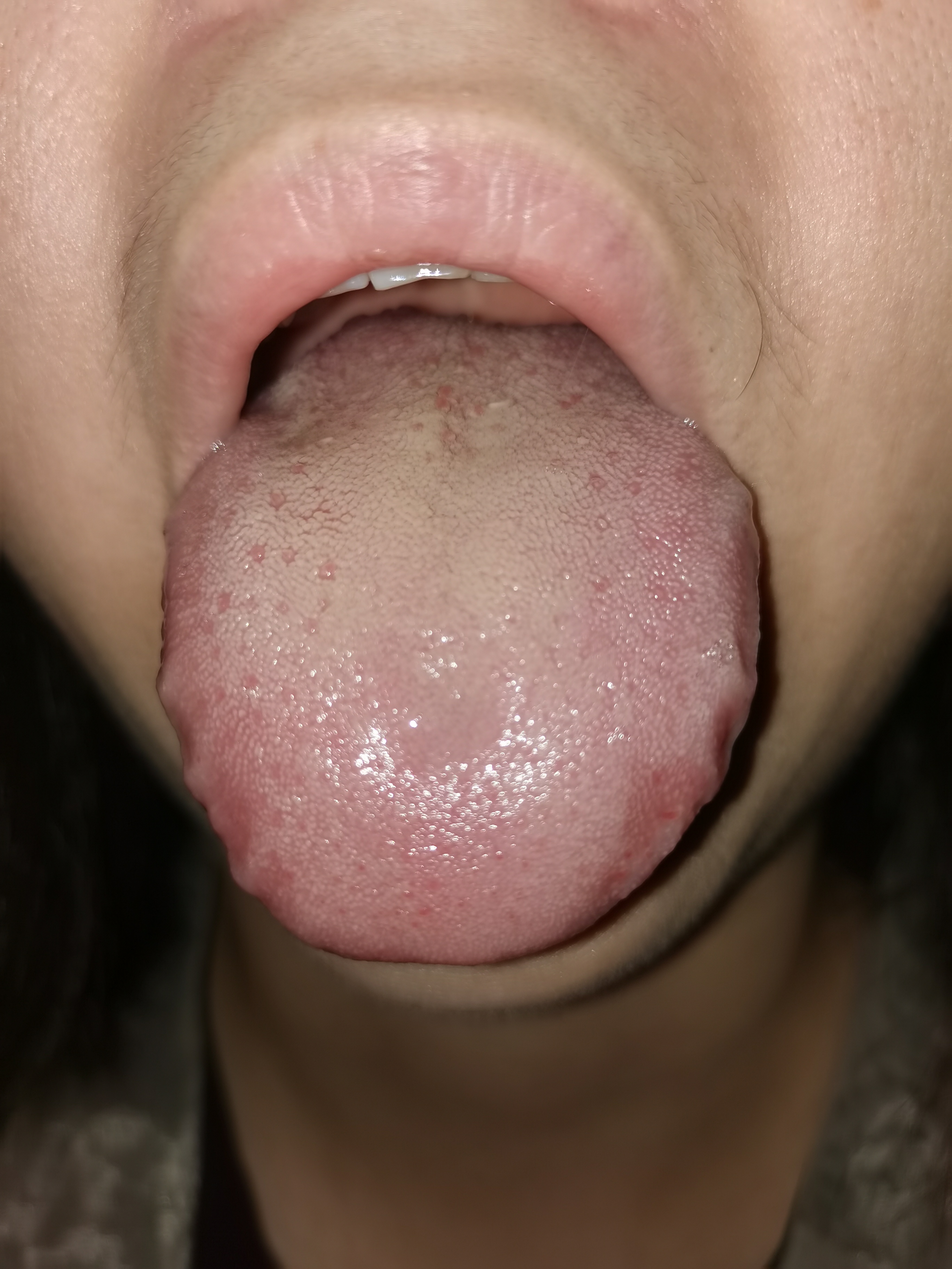baitaishe: (157, 312, 760, 961)
chihenshe: (159, 693, 286, 917), (708, 619, 761, 799)
